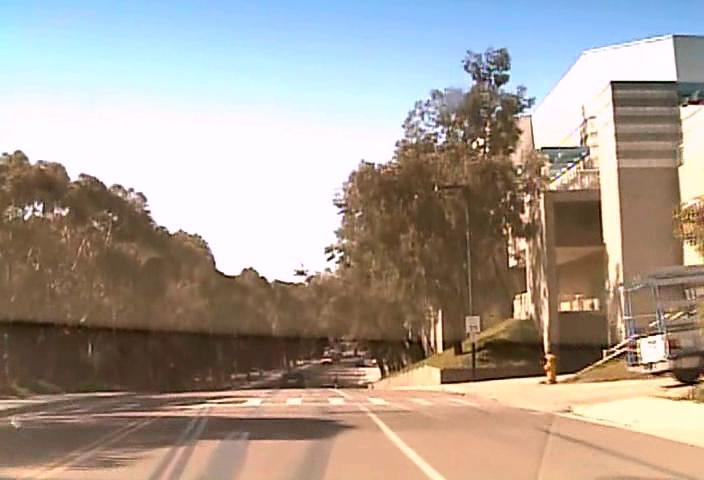speedLimitUrdbl: (465, 314, 481, 333)
